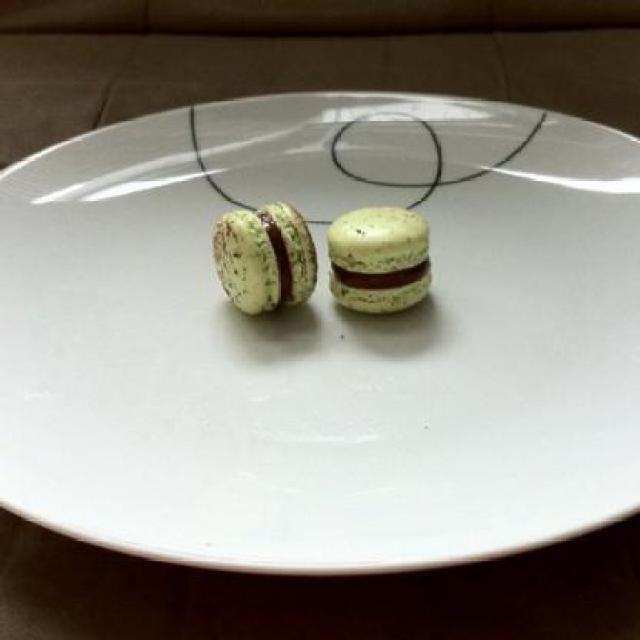Macaron: (208, 200, 457, 328)
